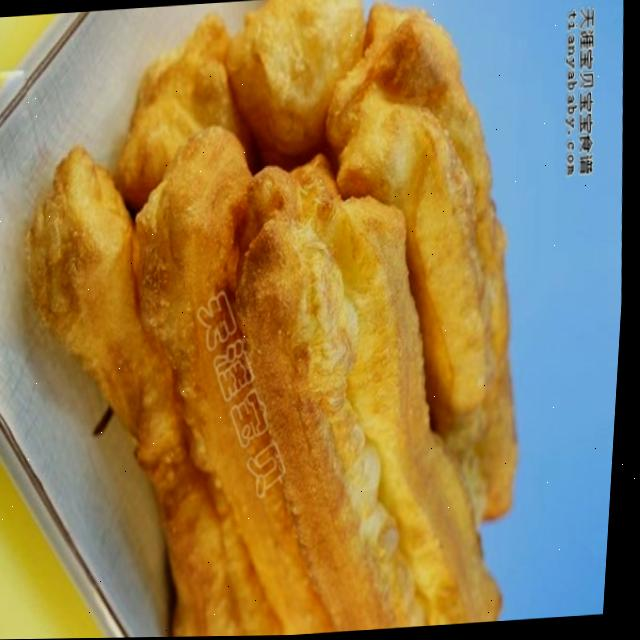炸货点心: (25, 0, 612, 639)
